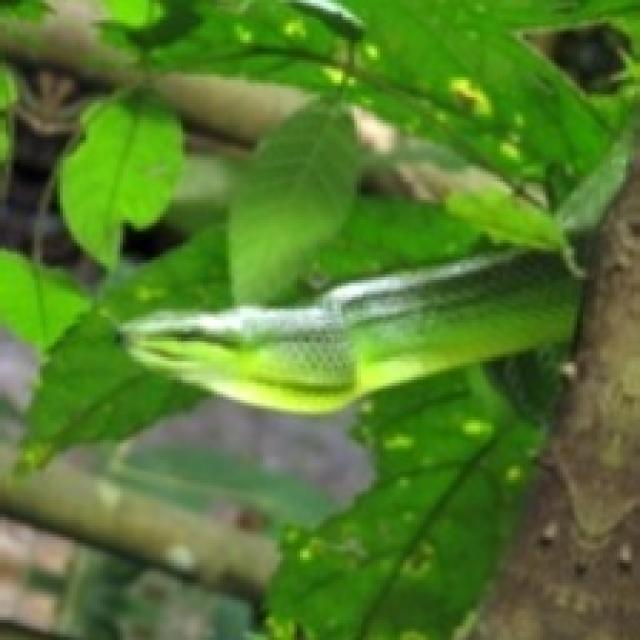red-tailed green ratsnake: (121, 251, 578, 413)
